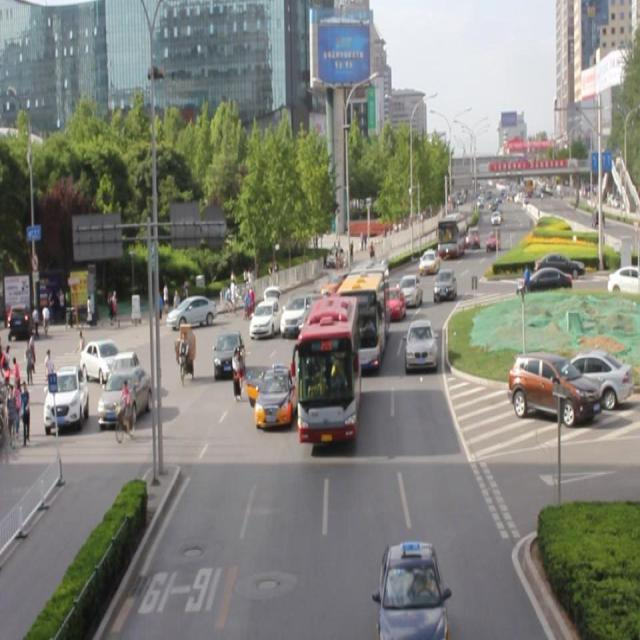car: (380, 539, 445, 640), (254, 364, 296, 428), (404, 318, 436, 371), (213, 327, 244, 378), (278, 291, 312, 335), (249, 297, 281, 337), (320, 269, 357, 302), (380, 284, 405, 322), (432, 268, 457, 300), (397, 272, 420, 306), (418, 248, 440, 274)
van: (298, 295, 358, 439), (340, 259, 387, 368)
